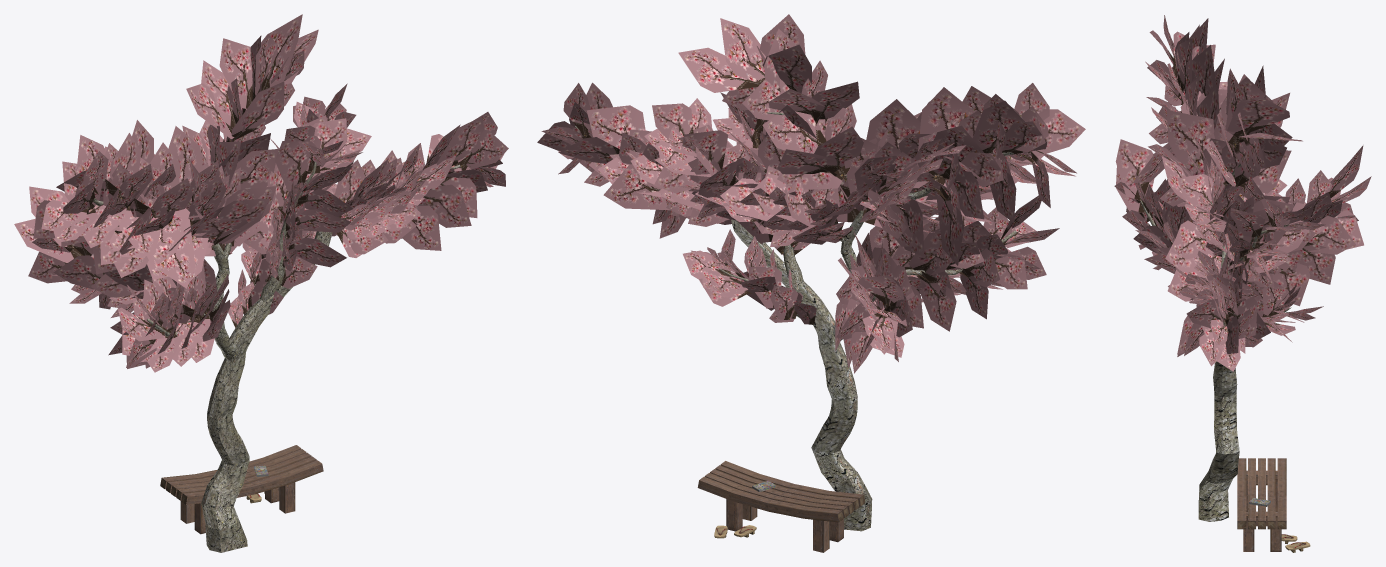
Rendered from sakura_tree.glb.
3 views of the same model, side by side, from view 1: azimuth 30°, elevation 25°; view 2: azimuth 150°, elevation 25°; view 3: azimuth 270°, elevation 25° (orthographic). The views are drawn at different scales.
Visible parts, largest first — view 1: Loft002, Box002, Plane525, Plane531, Plane207, Plane336, Plane522, Plane402, Plane542, Plane226, Plane115, Plane171 (+30 smaller); view 2: Loft002, Box002, Plane522, Plane527, Plane090, Plane202, Plane209, Plane534, Plane115, Plane073, Plane525, Plane539 (+34 smaller); view 3: Loft002, Box002, Plane348, Plane522, Plane022, Plane457, Plane401, Plane456, Plane395, Plane090, Plane469, Plane083 (+41 smaller).
Boxes of the visible parts, <box> form: Loft002: <box>93,161,466,552</box>; Box002: <box>160,445,323,534</box>; Plane525: <box>219,38,252,108</box>; Plane531: <box>231,81,284,140</box>; Plane207: <box>421,184,471,227</box>; Plane336: <box>146,218,195,288</box>; Plane522: <box>261,14,302,90</box>; Plane402: <box>275,141,316,191</box>; Plane542: <box>224,149,278,189</box>; Plane226: <box>402,205,441,250</box>; Plane115: <box>168,126,203,224</box>; Plane171: <box>436,116,484,166</box>; Loft002: <box>575,112,1016,531</box>; Box002: <box>697,461,865,552</box>; Plane522: <box>720,18,766,83</box>; Plane527: <box>678,47,759,92</box>; Plane090: <box>916,87,974,175</box>; Plane202: <box>586,105,645,165</box>; Plane209: <box>603,164,670,210</box>; Plane534: <box>762,111,826,163</box>; Plane115: <box>866,99,920,149</box>; Plane073: <box>972,100,1024,153</box>; Plane525: <box>762,44,811,93</box>; Plane539: <box>814,126,863,176</box>; Loft002: <box>1140,163,1291,521</box>; Box002: <box>1237,458,1286,551</box>; Plane348: <box>1167,110,1214,176</box>; Plane522: <box>1227,96,1289,134</box>; Plane022: <box>1115,139,1153,200</box>; Plane457: <box>1308,215,1355,254</box>; Plane401: <box>1171,220,1214,259</box>; Plane456: <box>1300,242,1335,284</box>; Plane395: <box>1177,174,1216,215</box>; Plane090: <box>1192,45,1215,96</box>; Plane469: <box>1278,260,1310,306</box>; Plane083: <box>1175,38,1192,102</box>.
Bounding box in the file's own units: 482 × 457 × 228.
4 materials, 4 textured.
